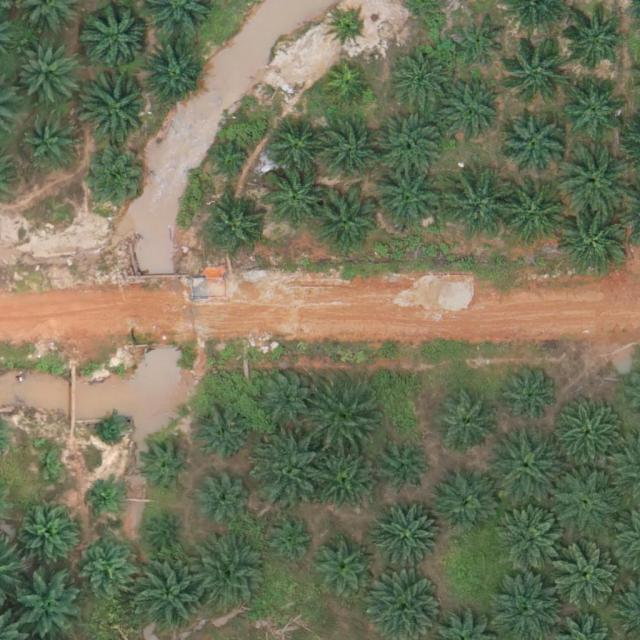Healthy: (195, 543, 266, 614), (550, 543, 621, 613), (550, 466, 620, 537), (550, 400, 621, 470), (496, 430, 566, 501), (497, 506, 567, 577), (309, 386, 379, 457), (253, 435, 323, 506), (136, 557, 207, 627), (559, 146, 629, 217), (559, 209, 630, 279), (504, 35, 574, 106), (375, 109, 445, 180), (373, 164, 443, 235), (441, 170, 511, 241), (374, 503, 444, 573), (497, 182, 567, 252), (312, 189, 382, 259), (83, 2, 153, 72), (82, 72, 152, 142), (499, 364, 562, 427), (254, 364, 317, 427), (20, 504, 83, 567), (562, 11, 625, 74), (390, 49, 453, 112), (262, 167, 325, 230), (265, 118, 328, 181), (204, 196, 267, 259), (84, 151, 147, 214), (14, 43, 77, 106), (434, 473, 496, 536), (436, 395, 498, 458), (313, 448, 375, 511), (562, 76, 625, 138), (501, 113, 563, 176), (439, 82, 501, 145), (319, 123, 381, 186), (142, 43, 204, 106), (314, 536, 376, 598), (379, 442, 434, 497), (262, 515, 317, 570), (195, 409, 250, 464), (195, 471, 250, 526), (80, 536, 135, 591), (139, 438, 194, 493), (453, 16, 508, 71), (25, 117, 80, 172)
Small: (208, 141, 255, 188), (329, 9, 369, 49), (91, 481, 122, 513), (95, 413, 126, 444), (152, 518, 183, 549), (35, 452, 66, 483)
Yellow: (324, 64, 371, 111)
